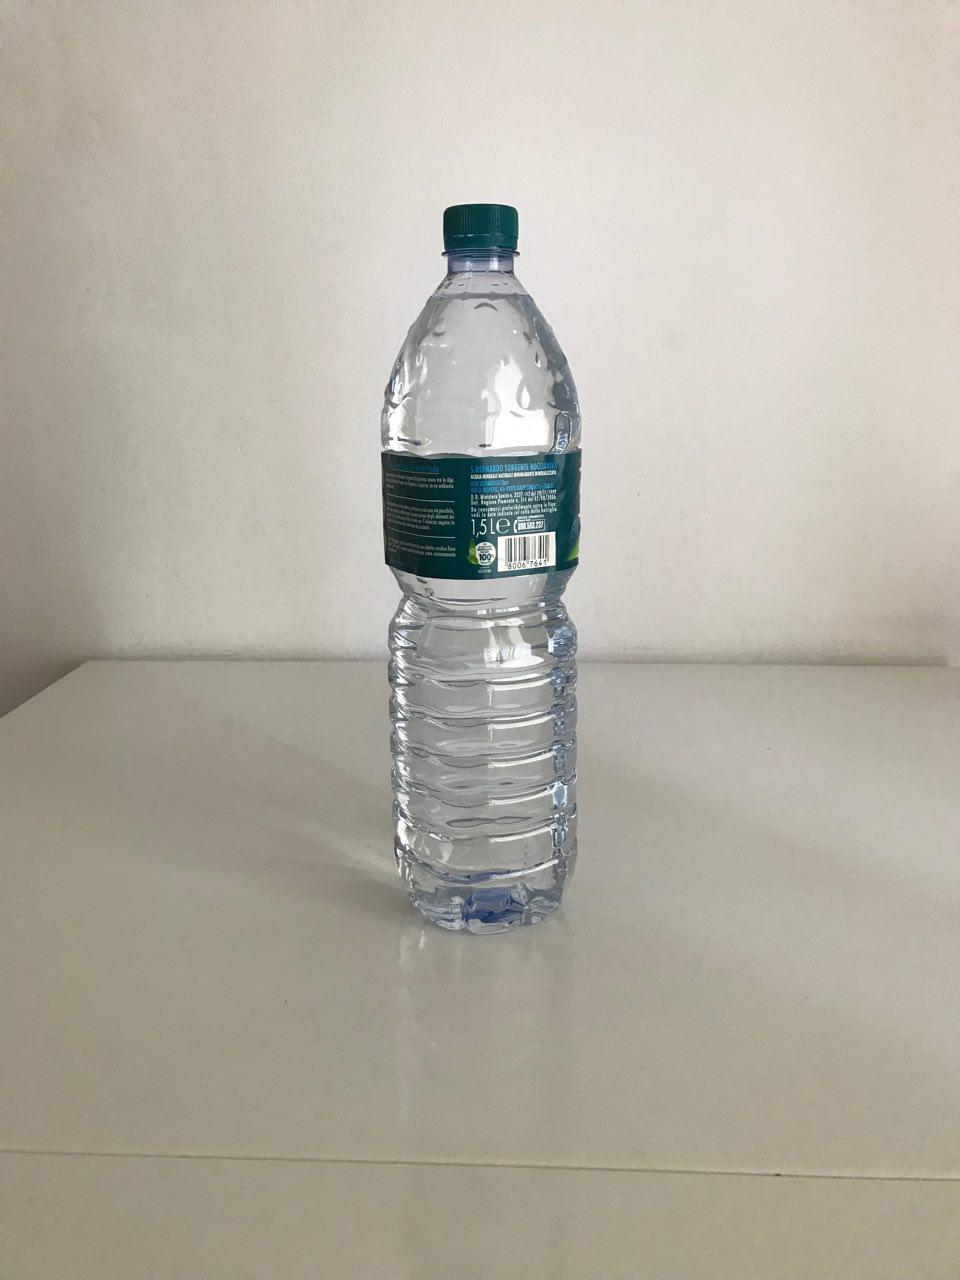san_bernardo: (378, 202, 585, 935)
